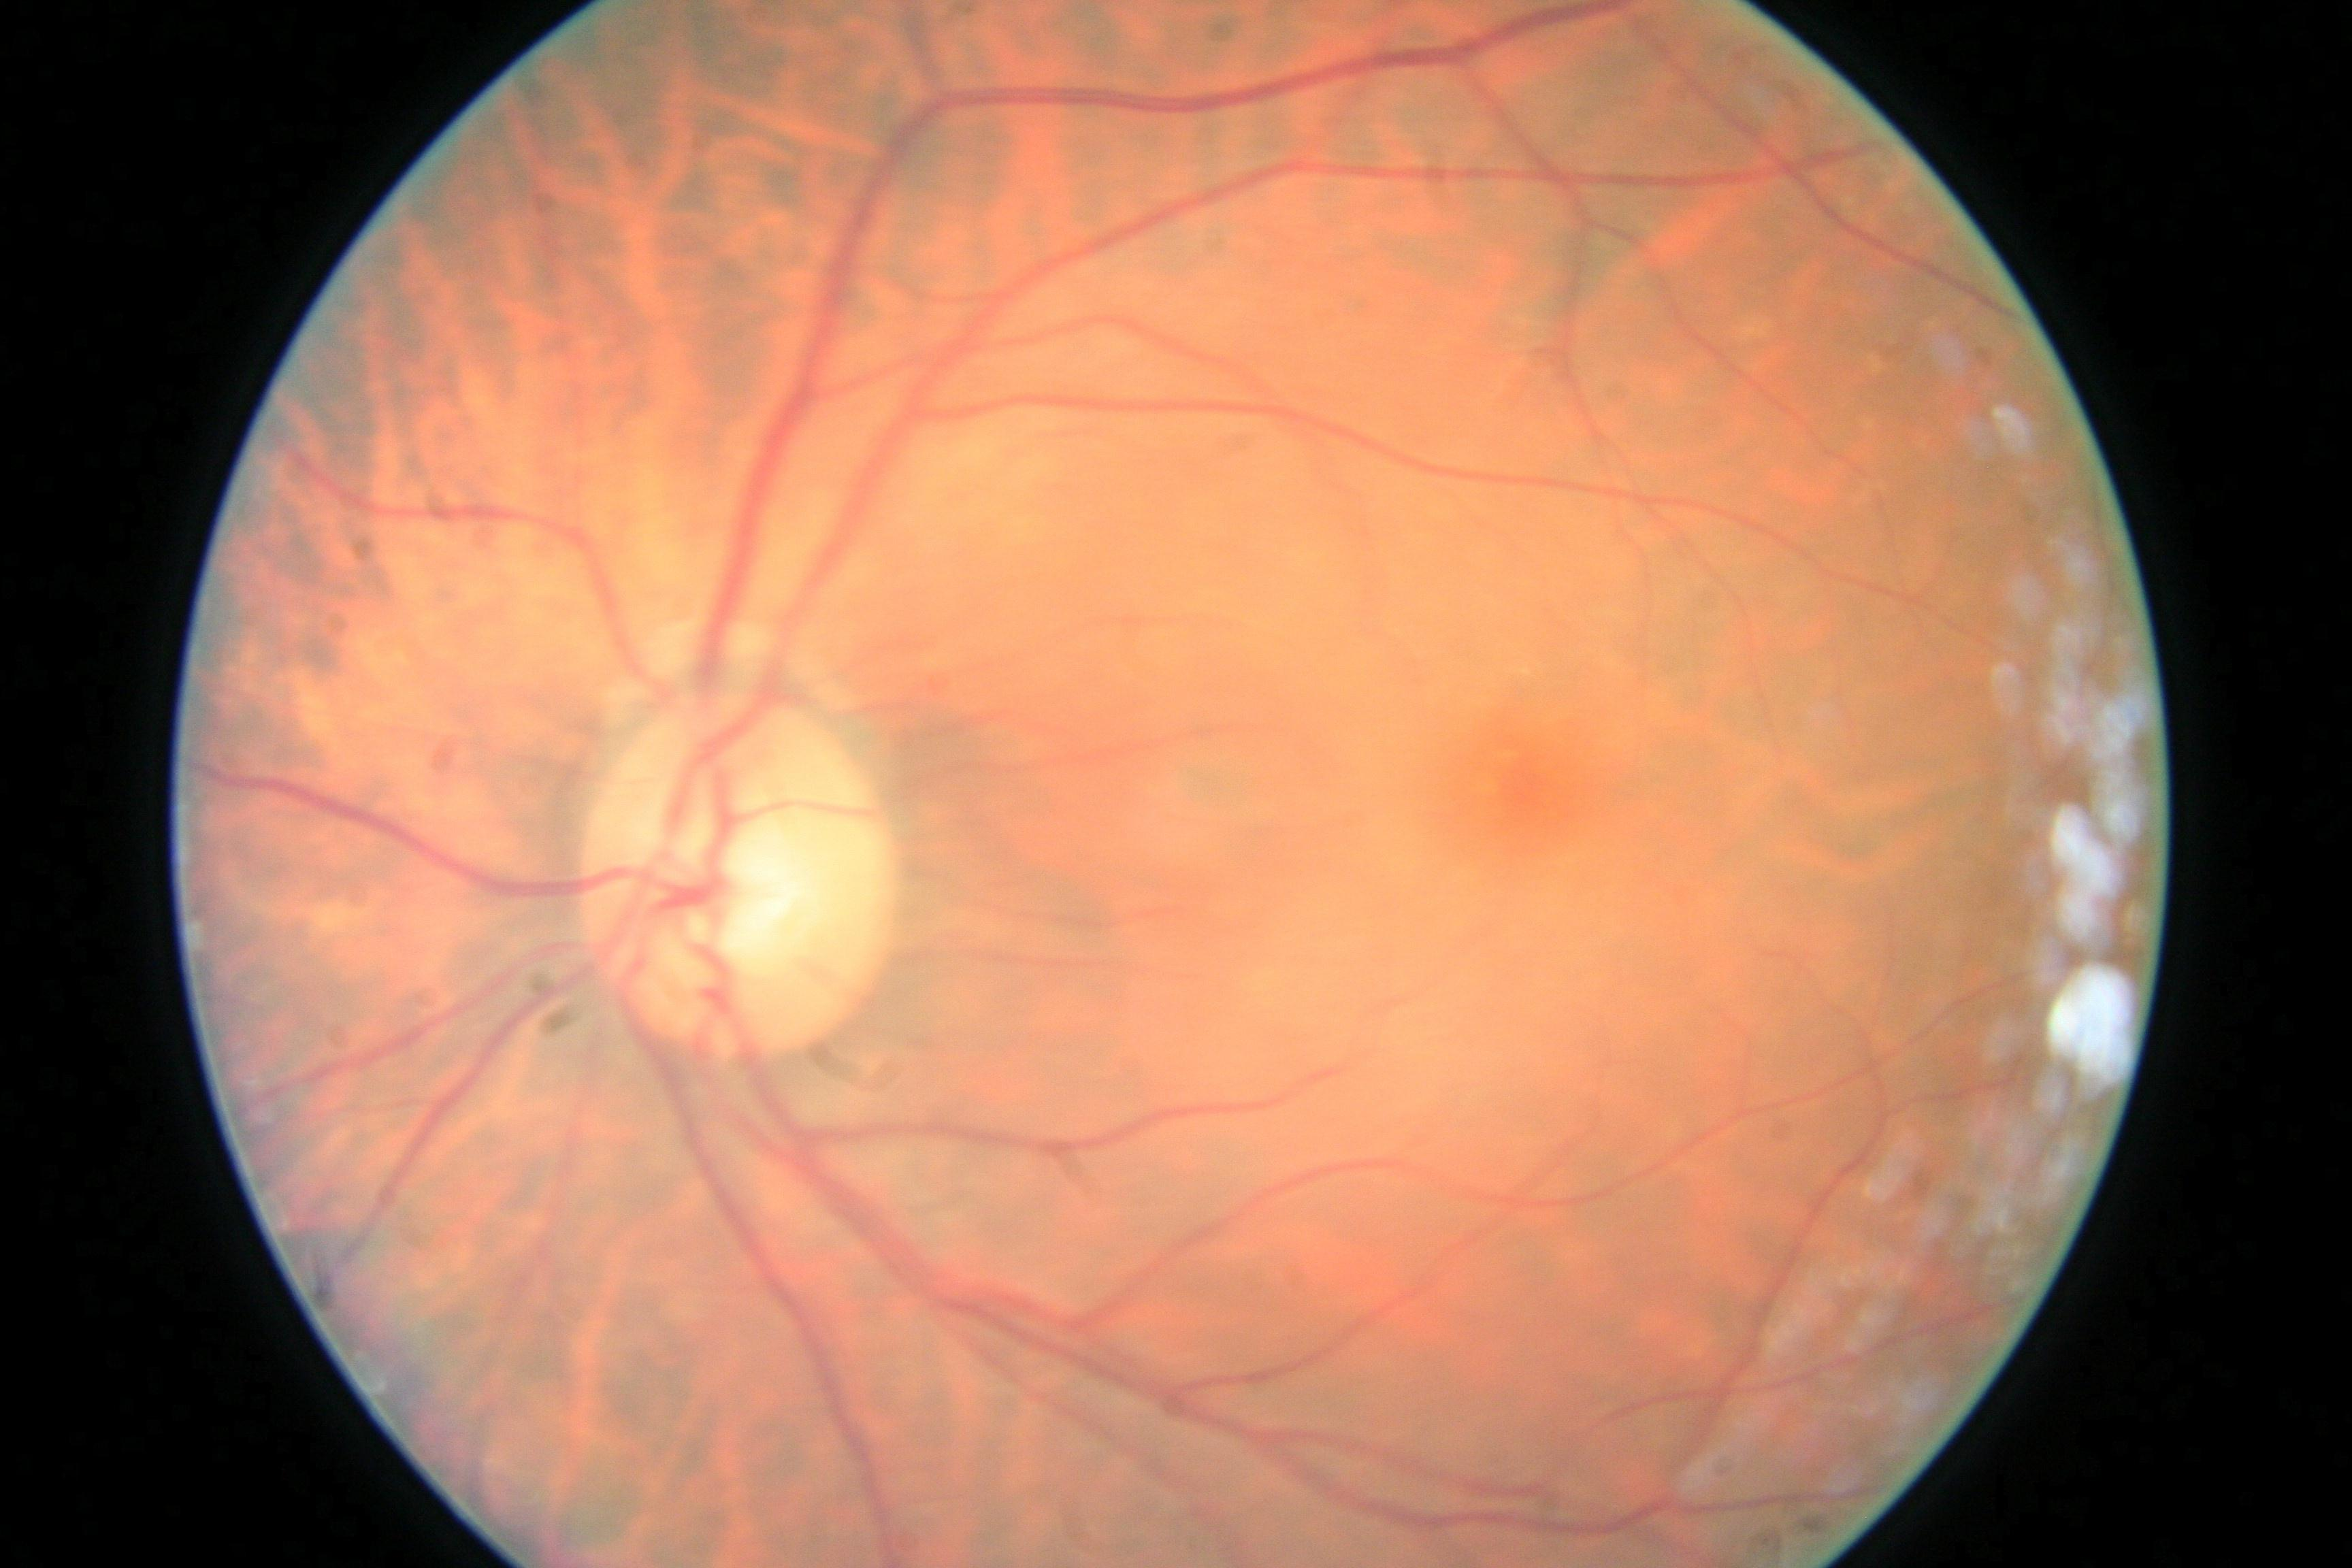Optic-nerve: (570, 690, 900, 1062)
macula: (1444, 690, 1617, 872)
